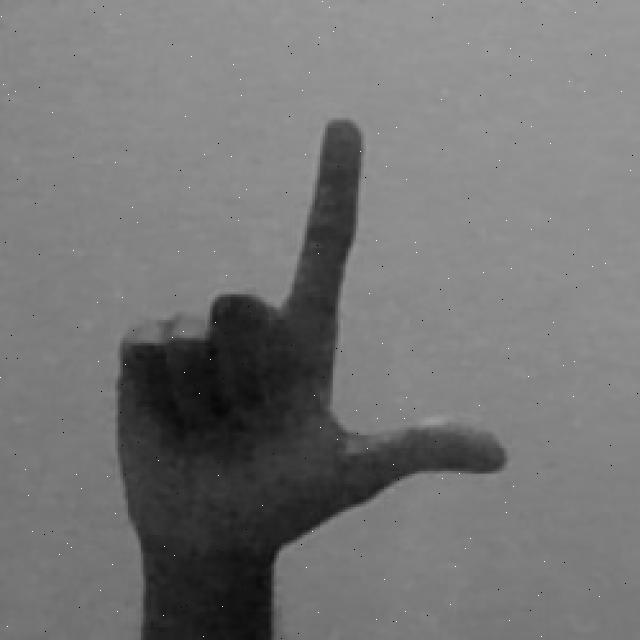L: (113, 110, 518, 639)
